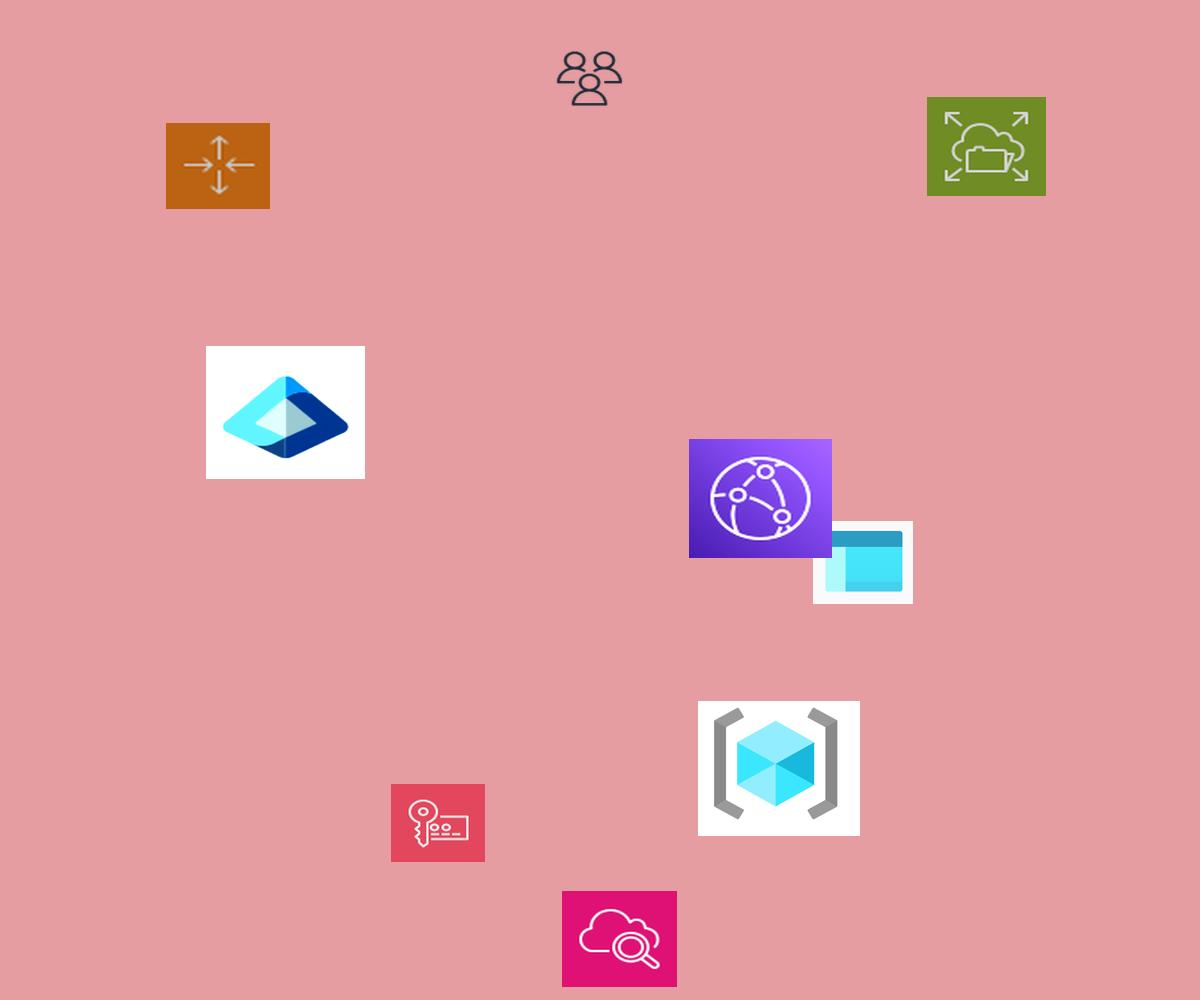AWS-CloudFront: (689, 439, 832, 558)
AWS-CloudWatch: (562, 891, 677, 987)
AWS-EFS: (927, 97, 1046, 196)
AWS-Key-Management-Service: (391, 784, 485, 862)
AWS-Res_Users: (554, 49, 625, 108)
AWS-Scaling-group: (166, 123, 270, 209)
Azure_management-portal: (813, 521, 913, 604)
Azure_microsoft_entra: (206, 346, 365, 479)
Azure_resource_group: (698, 701, 860, 836)
